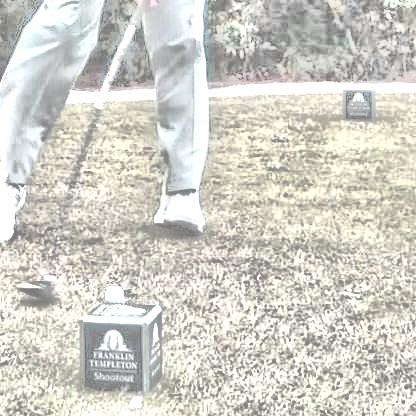golfball: (98, 280, 124, 301)
